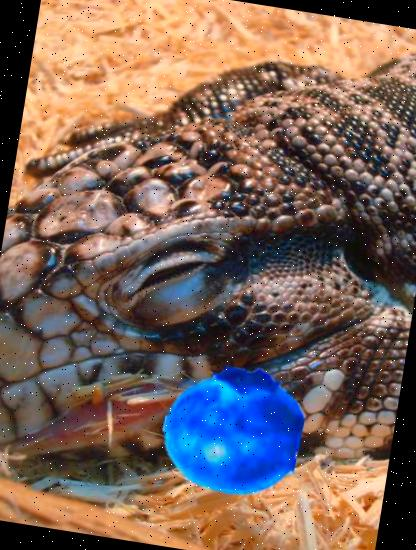Huckleberry: (154, 350, 312, 507)
